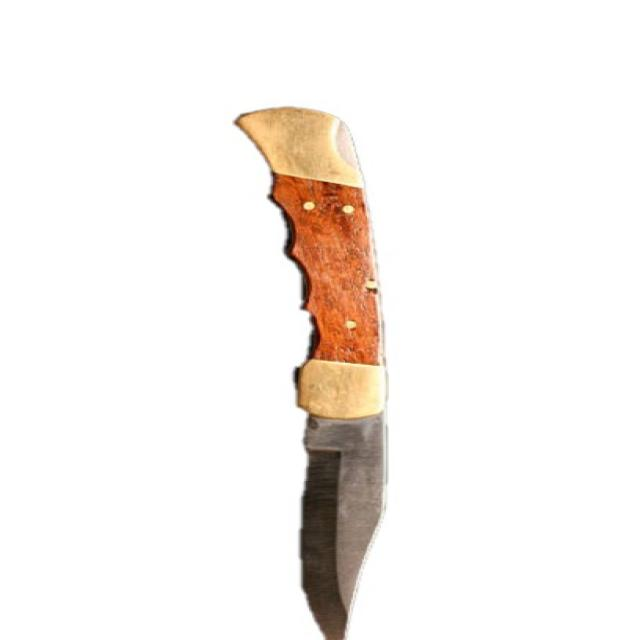knife: (211, 88, 469, 640)
